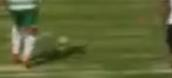ball: (52, 33, 74, 56)
